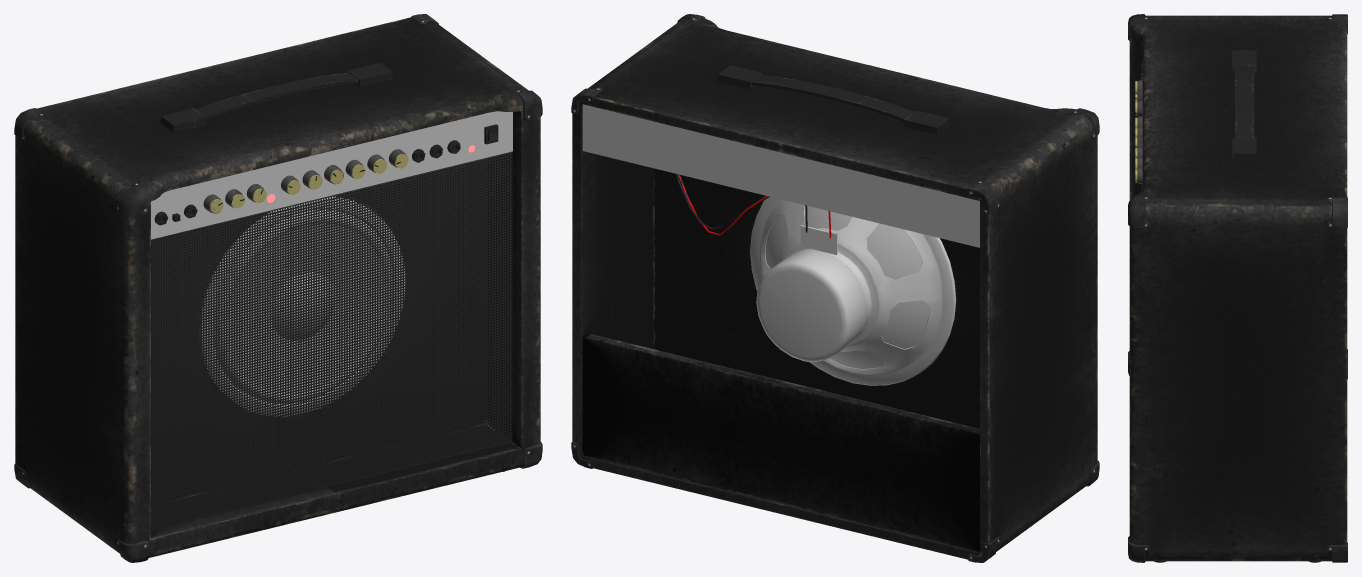
3 views of the same model, side by side, from view 1: azimuth 30°, elevation 25°; view 2: azimuth 150°, elevation 25°; view 3: azimuth 270°, elevation 25° (orthographic). The views are drawn at different scales.
Parts seen in each view (by area): view 1: lp_cajon_def001; view 2: lp_cajon_def001; view 3: lp_cajon_def001.
Part boxes in pixels (x1,y1,x2,y2): lp_cajon_def001: (14, 14, 542, 562); lp_cajon_def001: (571, 14, 1099, 562); lp_cajon_def001: (1128, 14, 1347, 562).
Size of the model in its own units: 47.25 by 42.01 by 22.23.
